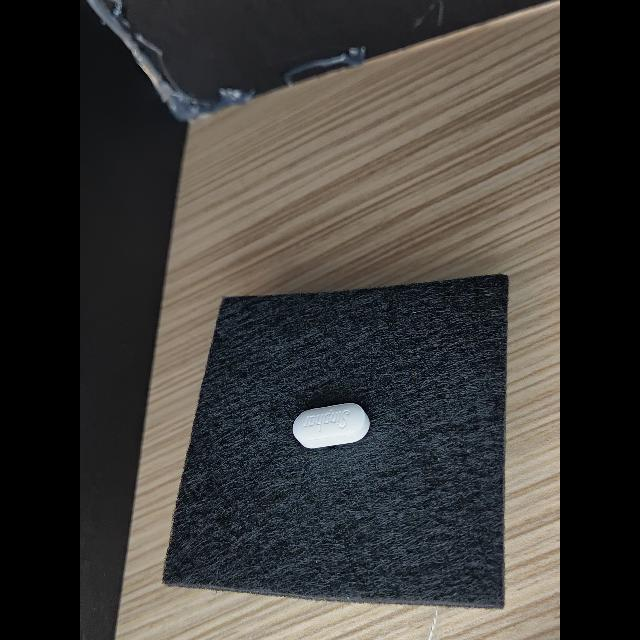Intact Pill: (293, 403, 370, 448)
